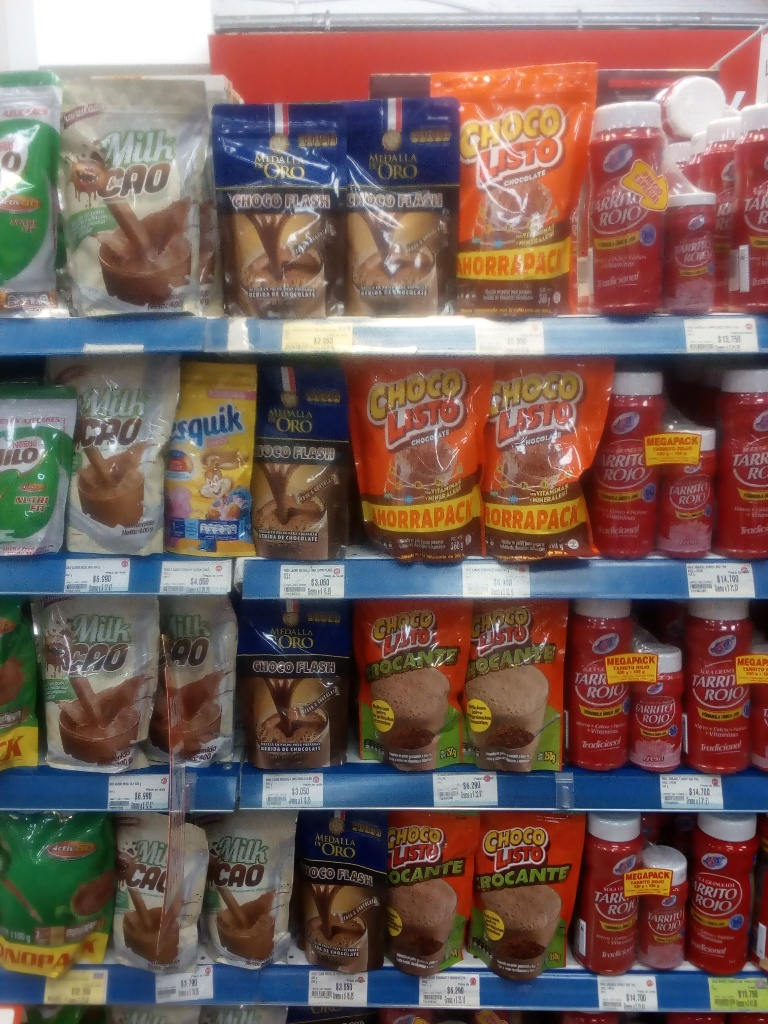COL0170102DYP25000: (348, 610, 467, 771)
COL0170103DYP36000: (348, 377, 484, 560)
COL0170205DYP20000: (2, 394, 71, 550)
COL0170205DYP50000: (0, 60, 71, 326)
COL0170305DYP20000: (165, 361, 257, 557)
